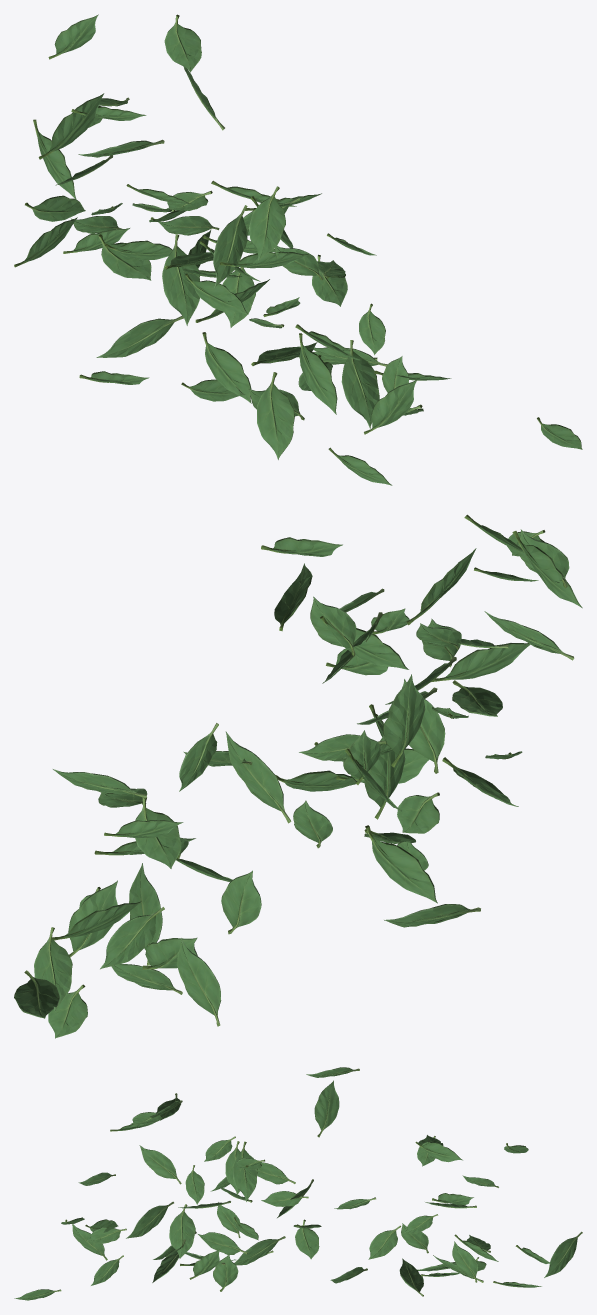
The model's file is holy_canopy15_full.glb.
3 renders of one model, top to bottom at view 1: azimuth 30°, elevation 25°; view 2: azimuth 150°, elevation 25°; view 3: azimuth 270°, elevation 25°, orthographic. The views are drawn at different scales.
Visible parts, largest first — view 1: holy_canopy15; view 2: holy_canopy15; view 3: holy_canopy15.
Boxes of the visible parts, left/top/right/bottom form: holy_canopy15: left=14, top=14, right=582, bottom=485; holy_canopy15: left=14, top=514, right=582, bottom=1038; holy_canopy15: left=14, top=1067, right=582, bottom=1300.
Size of the model in its own units: 9.96 by 10.64 by 25.63.
1 material, 1 textured.
